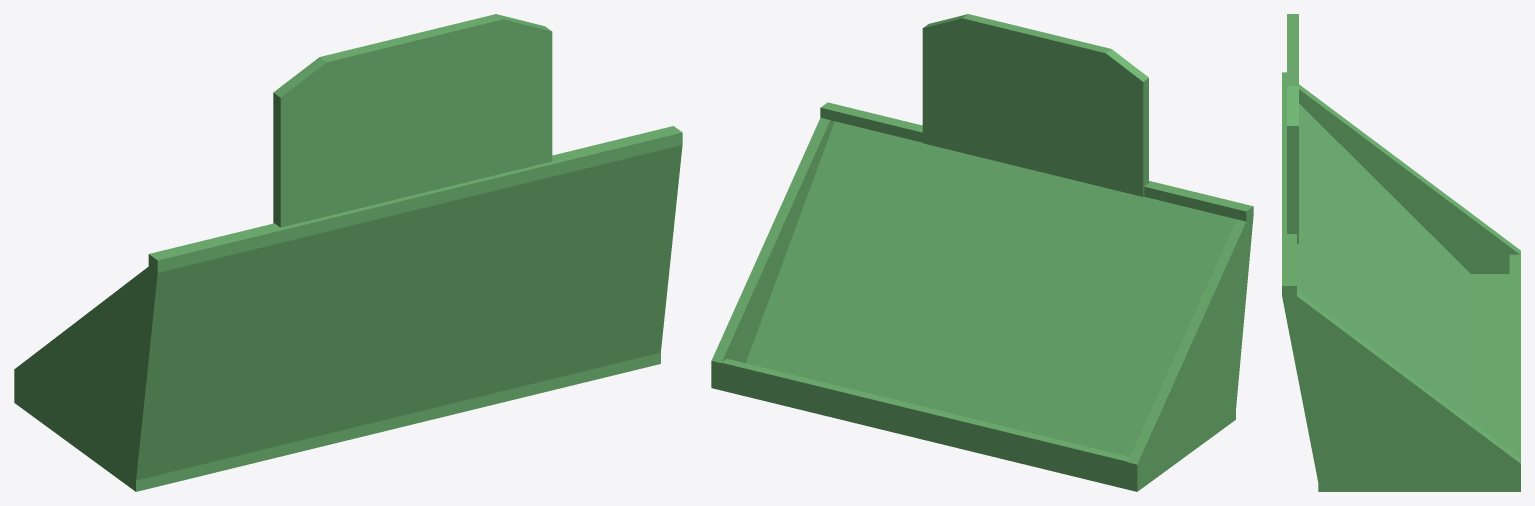
Rendered from Shelf.fbx.
3 renders of one model, left to right at view 1: azimuth 30°, elevation 25°; view 2: azimuth 150°, elevation 25°; view 3: azimuth 270°, elevation 25°, orthographic. The views are drawn at different scales.
Parts seen in each view (by area): view 1: Куб; view 2: Куб; view 3: Куб.
Part boxes in pixels (x1,y1,x2,y2): Куб: (14, 14, 682, 491); Куб: (711, 14, 1253, 491); Куб: (1282, 14, 1520, 491).
Size of the model in its own units: 498 by 364 by 236.
